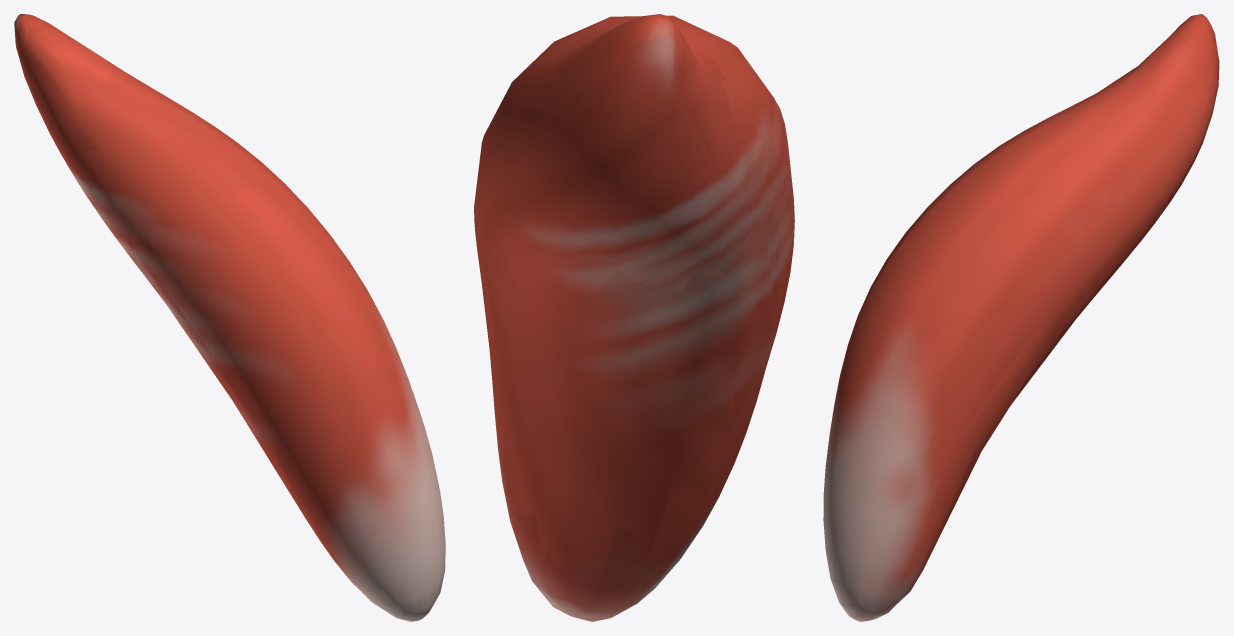
File: L Rectus Femoris.fbx
3 renders of one model, left to right at view 1: azimuth 30°, elevation 25°; view 2: azimuth 150°, elevation 25°; view 3: azimuth 270°, elevation 25°, orthographic. The views are drawn at different scales.
Visible parts, largest first — view 1: L Rectus Femoris, L Rectus Femoris low; view 2: L Rectus Femoris, L Rectus Femoris low; view 3: L Rectus Femoris, L Rectus Femoris low.
Part boxes in pixels (box(x1,y1,x2,y2)): L Rectus Femoris: box(14, 14, 445, 621); L Rectus Femoris low: box(17, 16, 427, 621); L Rectus Femoris: box(474, 14, 794, 621); L Rectus Femoris low: box(474, 16, 774, 619); L Rectus Femoris: box(823, 14, 1219, 621); L Rectus Femoris low: box(839, 17, 1217, 620).
Bounding box in the file's own units: 6.58 × 12.99 × 9.22.
